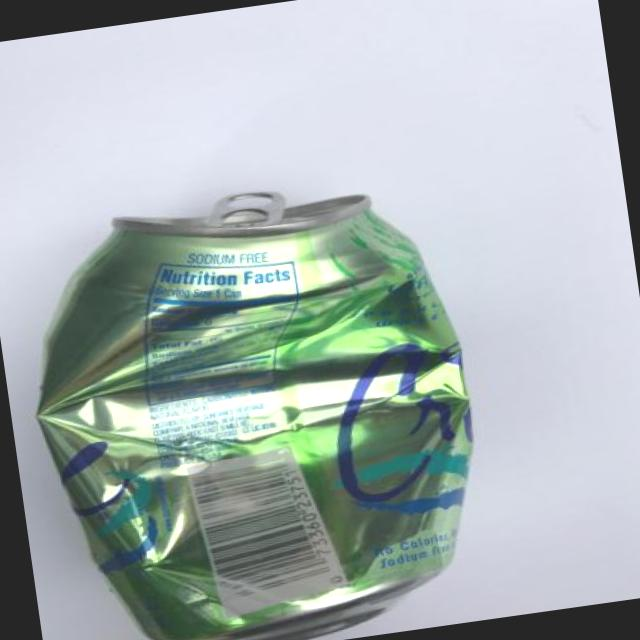metal: (37, 193, 471, 639)
